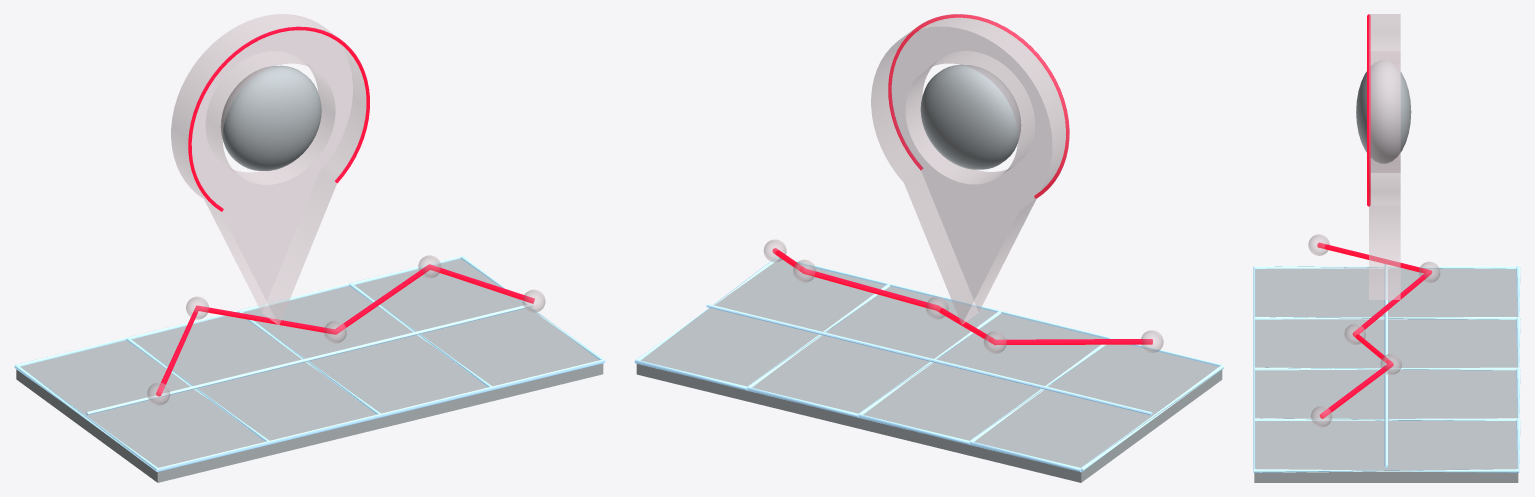
The model's file is 18-map.glb.
The picture shows the model from 3 angles, left to right: view 1: azimuth 30°, elevation 25°; view 2: azimuth 150°, elevation 25°; view 3: azimuth 270°, elevation 25°; orthographic projection. The views are drawn at different scales.
Parts seen in each view (by area): view 1: BC thin clear technical glass, BC subtle ruby technical glass, BC cool glass edge, BC ruby signal edge; view 2: BC thin clear technical glass, BC subtle ruby technical glass, BC cool glass edge, BC ruby signal edge; view 3: BC thin clear technical glass, BC subtle ruby technical glass, BC cool glass edge, BC ruby signal edge.
Boxes of the visible parts, left/top/right/bottom form: BC thin clear technical glass: left=16, top=65, right=603, bottom=482; BC subtle ruby technical glass: left=147, top=14, right=545, bottom=405; BC cool glass edge: left=14, top=256, right=605, bottom=472; BC ruby signal edge: left=156, top=26, right=534, bottom=396; BC thin clear technical glass: left=636, top=64, right=1222, bottom=482; BC subtle ruby technical glass: left=763, top=14, right=1163, bottom=353; BC cool glass edge: left=634, top=256, right=1224, bottom=472; BC ruby signal edge: left=772, top=14, right=1152, bottom=345; BC thin clear technical glass: left=1254, top=60, right=1518, bottom=482; BC subtle ruby technical glass: left=1308, top=14, right=1440, bottom=427; BC cool glass edge: left=1253, top=264, right=1520, bottom=472; BC ruby signal edge: left=1317, top=14, right=1432, bottom=418.
Bounding box in the file's own units: 2.02 × 1.56 × 1.11.
